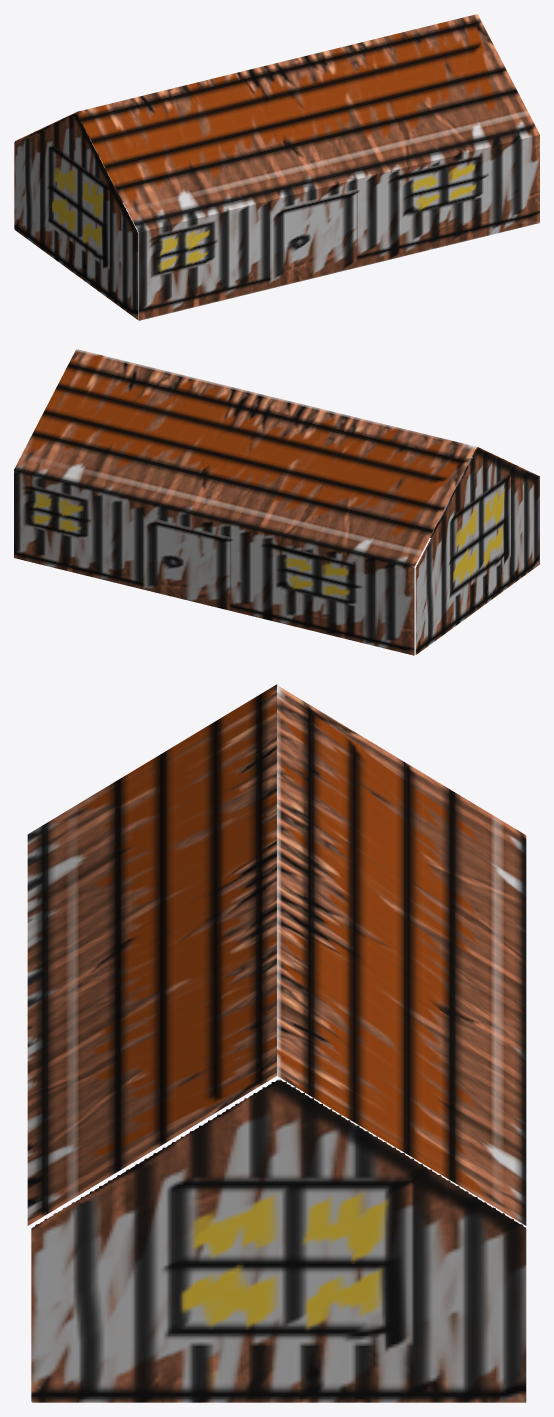
Rendered from farmhouse.fbx.
3 renders of one model, top to bottom at view 1: azimuth 30°, elevation 25°; view 2: azimuth 150°, elevation 25°; view 3: azimuth 270°, elevation 25°, orthographic. The views are drawn at different scales.
Visible parts, largest first — view 1: Farmhouse:polySurface1; view 2: Farmhouse:polySurface1; view 3: Farmhouse:polySurface1.
Part boxes in pixels (x1,y1,x2,y2): Farmhouse:polySurface1: (14,14,539,320); Farmhouse:polySurface1: (14,349,539,655); Farmhouse:polySurface1: (27,684,526,1402).
Size of the model in its own units: 324 by 126 by 174.
